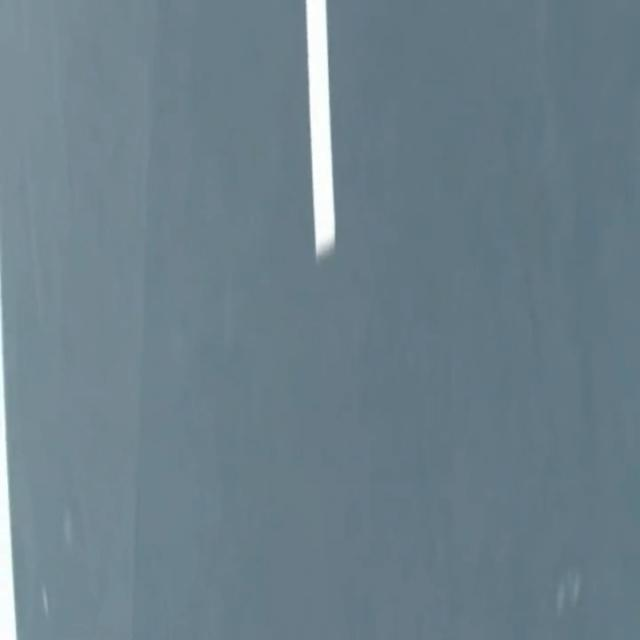center: (306, 0, 335, 260)
